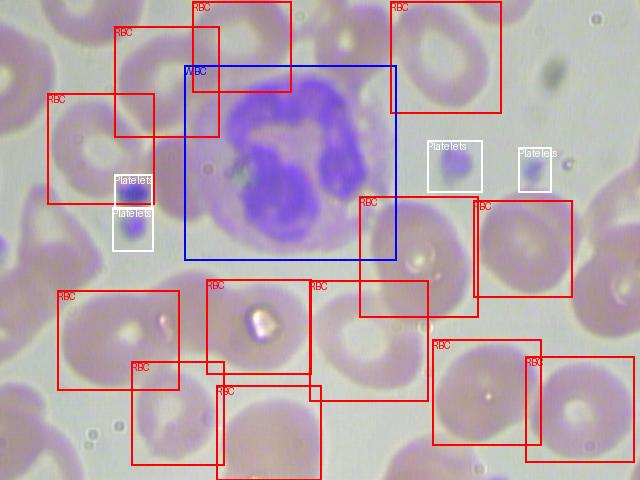Platelets: (427, 140, 482, 192), (112, 207, 153, 251), (518, 147, 551, 192), (114, 174, 152, 209)
RBC: (309, 280, 428, 401), (359, 196, 478, 317), (390, 1, 501, 113), (57, 290, 179, 390), (47, 93, 154, 204), (114, 26, 219, 137), (525, 356, 634, 462), (432, 339, 541, 445), (206, 279, 311, 374), (216, 385, 321, 480), (131, 361, 224, 465), (473, 200, 572, 297), (192, 1, 291, 92)
WBC: (184, 65, 396, 260)
